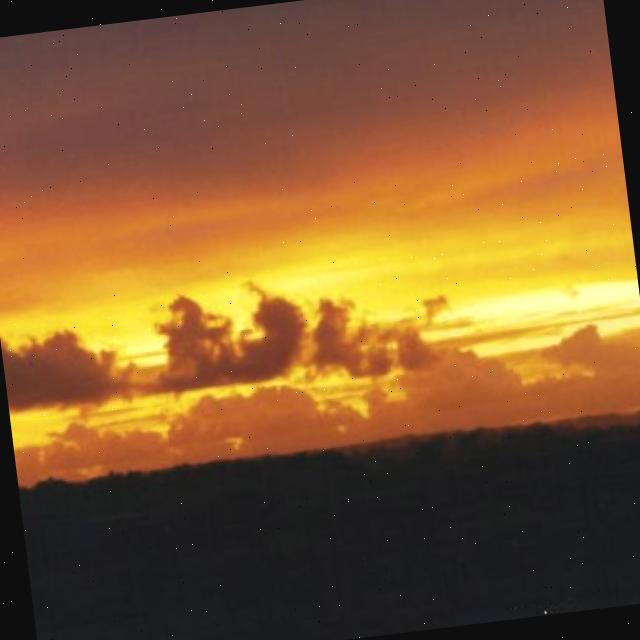As: (1, 264, 448, 428)
